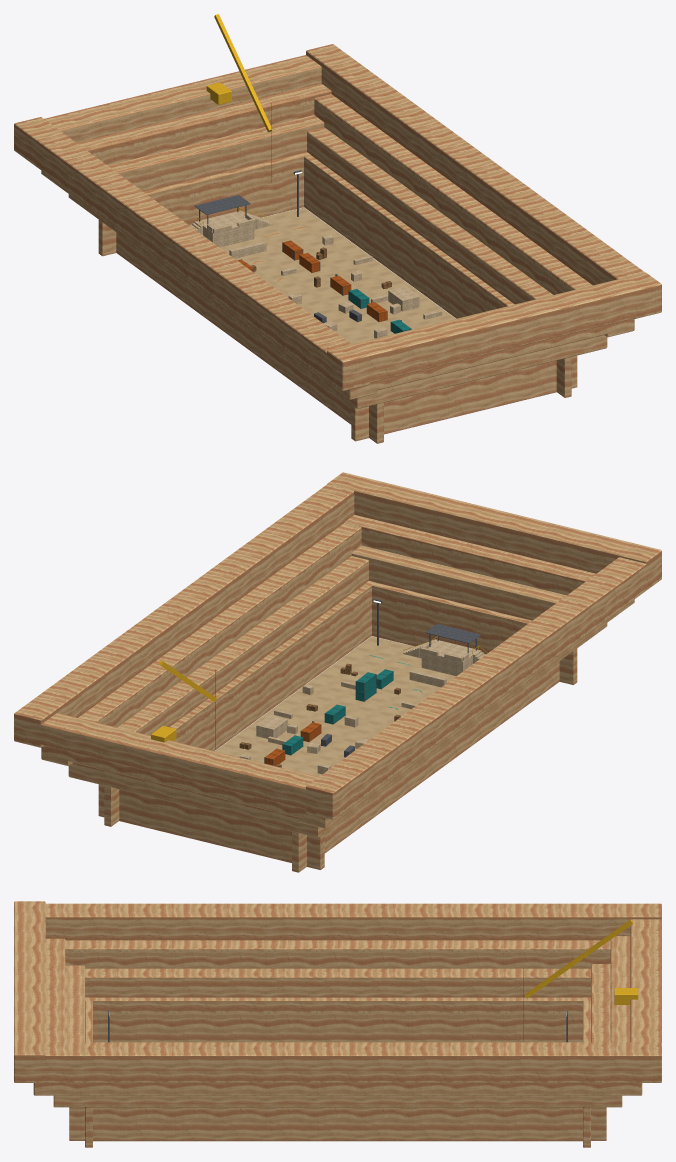
The picture shows the model from 3 angles, top to bottom: view 1: azimuth 30°, elevation 25°; view 2: azimuth 150°, elevation 25°; view 3: azimuth 270°, elevation 25°; orthographic projection.
Parts seen in each view (by area): view 1: cliff_x+__cliff, cliff_y+__cliff, cliff_y-__cliff, cliff_x-__cliff, floor__sand, nest_b__stone, sep_b__cont_orange, crane__yellow, mid_b__stone, nest_b__steel; view 2: cliff_x+__cliff, cliff_y-__cliff, cliff_x-__cliff, cliff_y+__cliff, floor__sand, nest_a__stone, sep_a__cont_teal, mid_a__stone, crane__yellow, nest_a__steel; view 3: cliff_x-__cliff, cliff_x+__cliff, cliff_y-__cliff, cliff_y+__cliff, crane__yellow, floor__sand.
Boxes of the visible parts, box(x1,y1,x2,y2) form: cliff_x+__cliff: box(300, 44, 661, 397); cliff_y+__cliff: box(44, 55, 331, 256); cliff_y-__cliff: box(327, 272, 661, 441); cliff_x-__cliff: box(14, 117, 383, 443); floor__sand: box(220, 207, 455, 343); nest_b__stone: box(190, 210, 272, 247); sep_b__cont_orange: box(238, 240, 386, 321); crane__yellow: box(206, 14, 272, 132); mid_b__stone: box(229, 241, 353, 313); nest_b__steel: box(194, 195, 250, 224); cliff_x+__cliff: box(14, 484, 374, 826); cliff_y-__cliff: box(327, 472, 661, 684); cliff_x-__cliff: box(292, 553, 661, 872); cliff_y+__cliff: box(14, 713, 332, 869); floor__sand: box(215, 636, 455, 776); nest_a__stone: box(403, 639, 485, 676); sep_a__cont_teal: box(283, 669, 393, 755); mid_a__stone: box(344, 670, 446, 748); crane__yellow: box(151, 660, 216, 742); nest_a__steel: box(425, 623, 481, 653); cliff_x-__cliff: box(45, 903, 661, 1042); cliff_x+__cliff: box(14, 1042, 661, 1140); cliff_y-__cliff: box(14, 901, 92, 1147); cliff_y+__cliff: box(583, 919, 661, 1147); crane__yellow: box(525, 919, 638, 1004); floor__sand: box(93, 1141, 582, 1141).
Bounding box in the file's own units: 92 × 53.36 × 164.
Materials: 11 (10 with a texture image).
